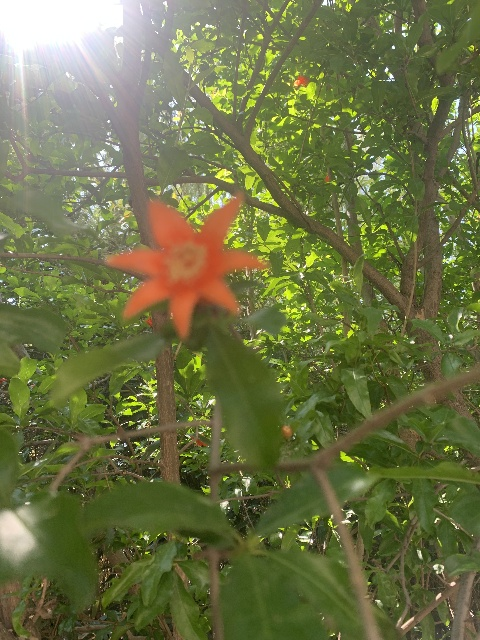bud: (280, 425, 293, 442)
flower: (105, 194, 265, 339), (189, 432, 208, 447), (293, 76, 309, 87), (144, 316, 153, 326)
